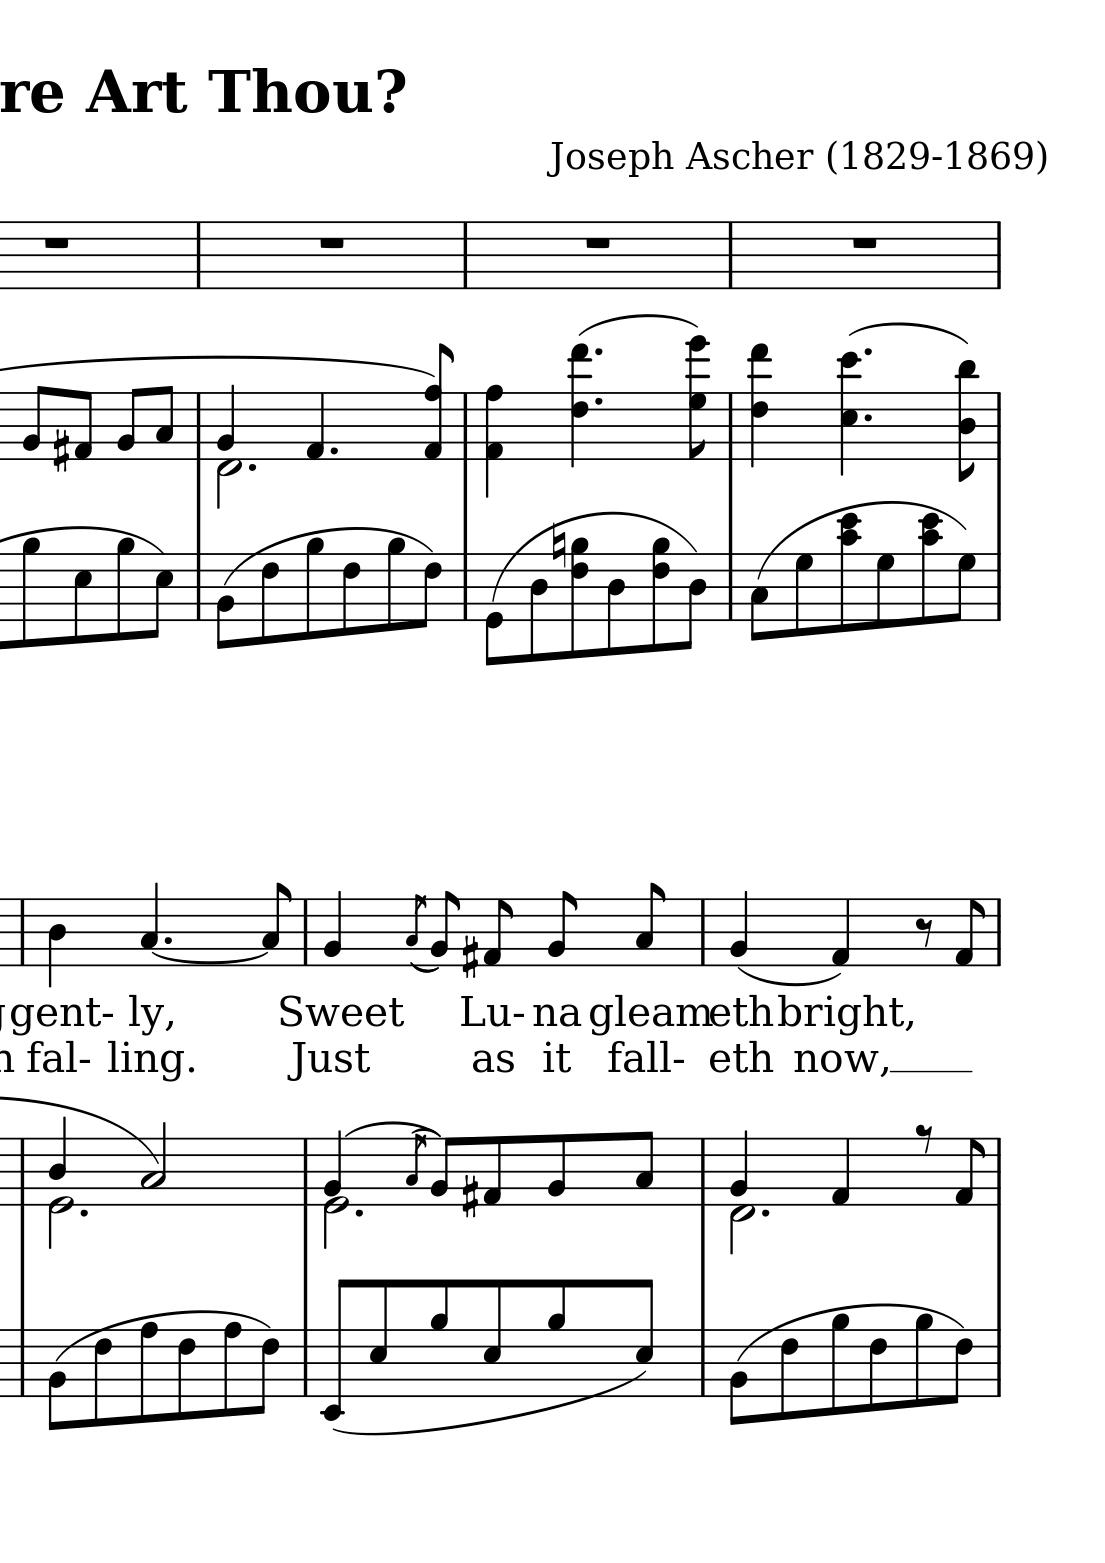2_3: (139, 1121, 167, 1209)
4_1: (828, 896, 851, 967), (828, 1136, 851, 1208)
4_1_8: (484, 384, 505, 497)
4_2: (320, 889, 344, 967), (215, 384, 238, 460), (728, 889, 749, 967), (729, 1128, 750, 1207), (324, 1130, 344, 1205)
4_3: (138, 881, 160, 967)
4_4: (48, 1115, 71, 1208), (45, 897, 67, 987)
4_5_12: (835, 350, 860, 476)
4_6_13: (567, 342, 591, 469)
8_-2: (318, 1276, 353, 1425)
8_0: (484, 551, 503, 667)
8_1: (481, 896, 514, 967), (952, 897, 985, 967), (952, 1137, 984, 1207), (480, 1134, 503, 1210), (71, 389, 93, 463), (303, 391, 325, 462)
8_10_12: (836, 512, 861, 633), (917, 509, 942, 625)
8_1_8: (422, 342, 456, 460)
8_2: (545, 889, 576, 967), (213, 551, 236, 652), (431, 889, 459, 967), (45, 1327, 66, 1431), (112, 386, 140, 462), (22, 384, 48, 462), (727, 1327, 747, 1427), (428, 1135, 454, 1209), (545, 1132, 567, 1208)
8_3: (633, 880, 665, 967), (260, 881, 289, 967), (747, 551, 770, 645), (633, 1129, 655, 1208), (153, 384, 173, 463)
8_4: (678, 552, 706, 651), (604, 551, 625, 658), (529, 551, 548, 663)
8_4_11: (956, 358, 979, 484)
8_5: (481, 1277, 503, 1398), (633, 1278, 655, 1398), (367, 1278, 389, 1398), (146, 552, 173, 640), (71, 551, 92, 647)
8_6: (252, 1327, 280, 1416), (90, 1327, 112, 1429), (414, 552, 442, 630), (946, 1327, 973, 1408), (776, 1327, 799, 1423), (173, 1327, 196, 1422), (257, 551, 279, 647), (866, 1327, 887, 1414), (340, 552, 360, 639)
8_6_8: (570, 536, 590, 660)
8_6_9: (651, 537, 672, 653)
8_7: (950, 552, 976, 624), (793, 552, 814, 639), (874, 551, 895, 631)
8_7_14: (685, 334, 710, 460)
8_8: (135, 1320, 158, 1425), (220, 1321, 242, 1418)
8_9: (427, 1277, 450, 1398), (545, 1277, 567, 1397), (112, 536, 135, 645), (18, 536, 39, 651), (303, 536, 325, 641), (828, 1313, 849, 1417), (911, 1312, 933, 1409), (384, 536, 405, 631)
Acciaccature: (405, 892, 427, 967), (405, 1131, 427, 1207)
Natural: (550, 524, 567, 570)
Rests1: (315, 233, 349, 254), (847, 233, 881, 252), (39, 233, 73, 252), (581, 234, 613, 252)
Rests8: (912, 1121, 936, 1156), (912, 916, 935, 950)
Sharp: (458, 1172, 480, 1221), (459, 933, 480, 981), (50, 428, 71, 475)
Single_barline: (190, 552, 208, 622), (190, 392, 208, 460), (456, 552, 474, 621), (722, 552, 740, 621), (694, 1329, 712, 1397), (694, 1138, 712, 1205), (989, 1138, 1007, 1205), (297, 1138, 315, 1205), (457, 392, 474, 462), (989, 552, 1006, 622), (989, 1329, 1006, 1398), (13, 1329, 30, 1397), (722, 393, 739, 460), (990, 899, 1007, 966), (13, 1138, 30, 1205), (297, 1330, 313, 1397), (457, 222, 474, 288), (13, 899, 30, 965), (695, 899, 712, 964), (190, 222, 206, 291), (990, 392, 1006, 459), (990, 222, 1006, 288), (722, 222, 738, 288), (298, 899, 313, 965)
Slur: (332, 1370, 645, 1437), (850, 320, 953, 347), (579, 315, 700, 336), (737, 967, 842, 988), (149, 951, 268, 966), (344, 1119, 438, 1137), (408, 961, 441, 973)
dot: (863, 411, 877, 426), (592, 344, 604, 359), (593, 393, 605, 408), (246, 459, 258, 474), (862, 344, 874, 358), (161, 933, 173, 946), (77, 1205, 88, 1219), (759, 1205, 771, 1219), (352, 1205, 364, 1219), (328, 444, 338, 458)
